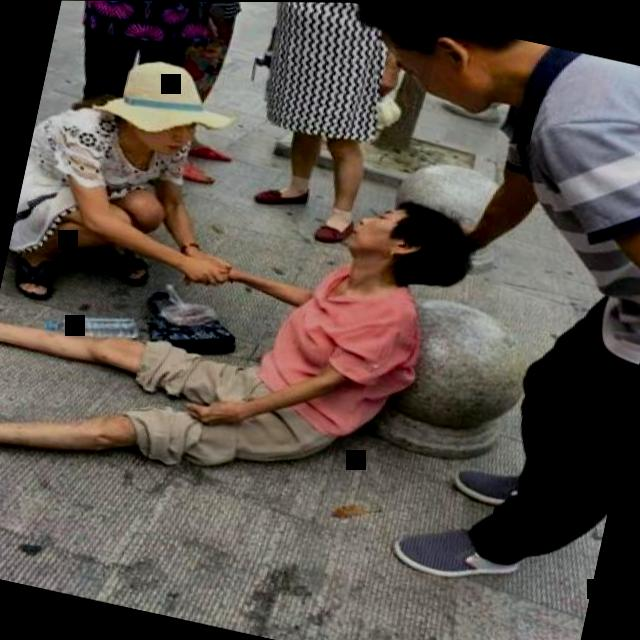Fall-Detected: (0, 125, 488, 561)
